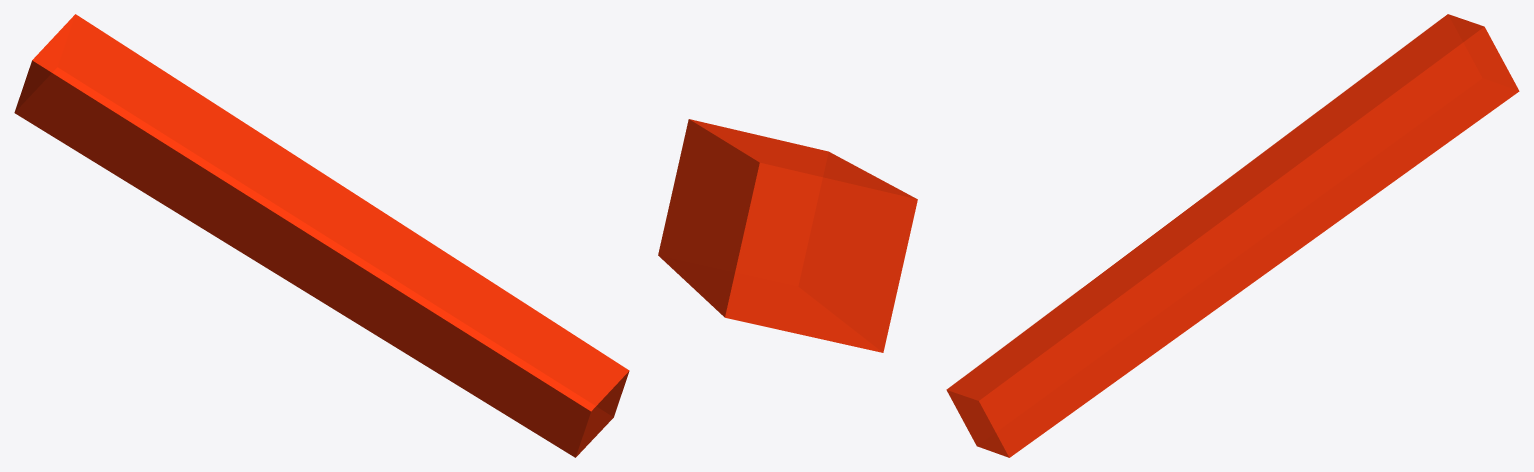
Rendered from Event_421127236_EBrechit_2.fbx.
3 renders of one model, left to right at view 1: azimuth 30°, elevation 25°; view 2: azimuth 150°, elevation 25°; view 3: azimuth 270°, elevation 25°, orthographic. The views are drawn at different scales.
Visible parts, largest first — view 1: Model; view 2: Model; view 3: Model.
Part boxes in pixels (bbox=[...]): Model: bbox=[14, 14, 629, 457]; Model: bbox=[658, 119, 917, 352]; Model: bbox=[946, 14, 1519, 457].
Size of the model in its own units: 0.3218 by 0.2688 by 0.4575.
